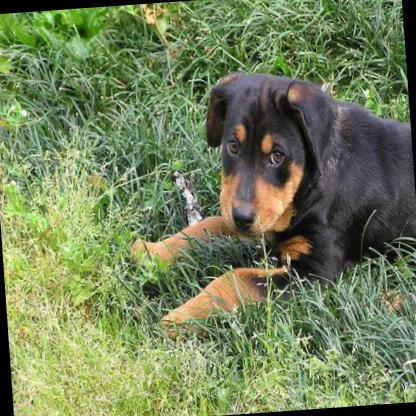Rottweiler: (119, 57, 416, 339)
